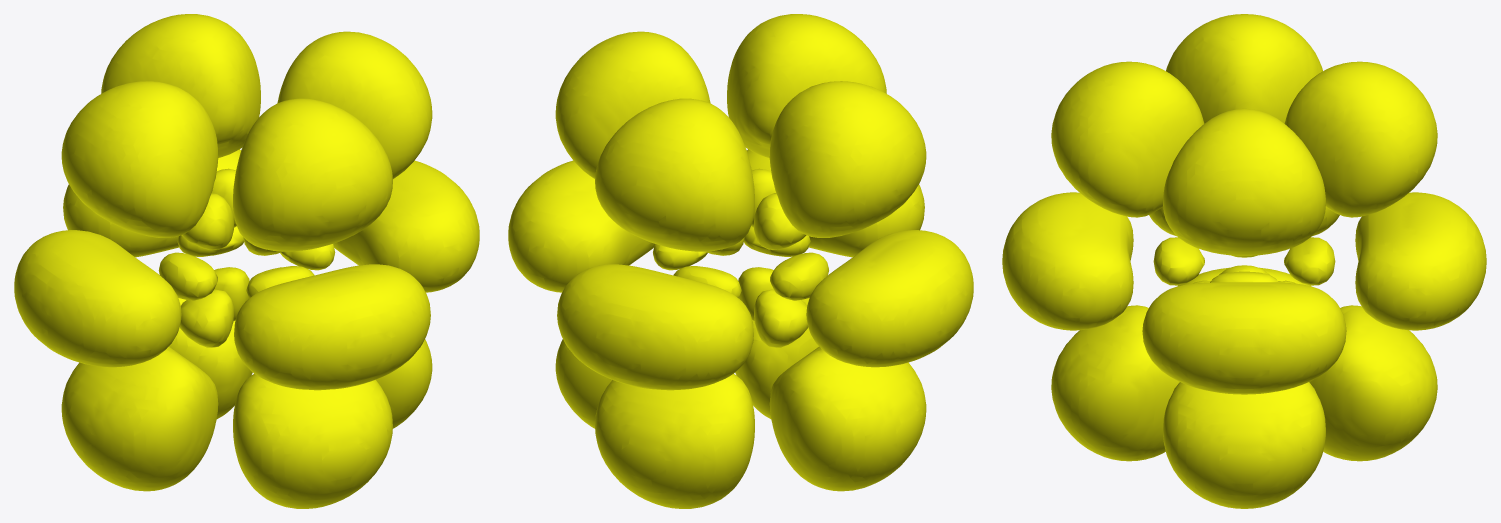
The model's file is orb_n=6_ l=4 _m=2.fbx.
3 renders of one model, left to right at view 1: azimuth 30°, elevation 25°; view 2: azimuth 150°, elevation 25°; view 3: azimuth 270°, elevation 25°, orthographic. The views are drawn at different scales.
Parts seen in each view (by area): view 1: orb_n=6_ l=4 _m=2; view 2: orb_n=6_ l=4 _m=2; view 3: orb_n=6_ l=4 _m=2.
Part boxes in pixels (box(x1,y1,x2,y2)): orb_n=6_ l=4 _m=2: box(14, 14, 479, 508); orb_n=6_ l=4 _m=2: box(508, 14, 973, 508); orb_n=6_ l=4 _m=2: box(1002, 14, 1486, 508).
Size of the model in its own units: 14114 by 12409 by 14114.
